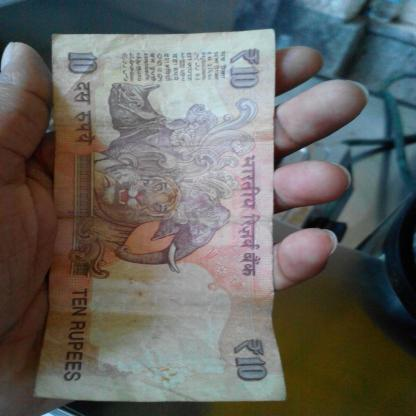Old10Back: (33, 30, 286, 402)
